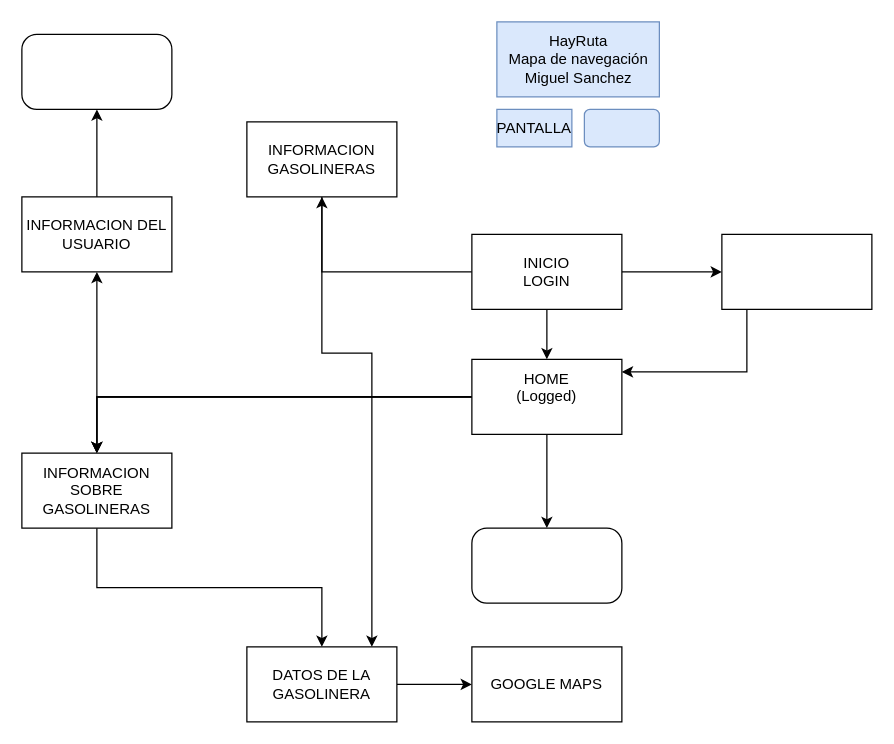
Image size: 894x744. Some labels were removed from this diagram. The shapes that lost their labels are listed below. From the top down, each one's box as (x1, y1, x2, y2) in pixels, then its label:
(21, 33, 172, 109): Editar datos de usuario (popup)
(583, 108, 659, 147): POPUP
(721, 233, 872, 309): CREAR CUENTA
(471, 527, 622, 603): Agregar/eliminar usuario de la ruta (popup)
